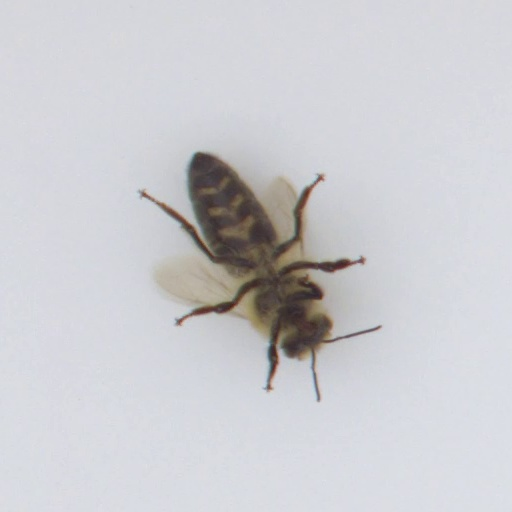Bee: (170, 143, 350, 375)
